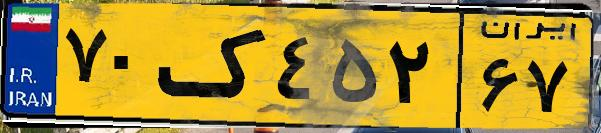0: (110, 28, 158, 98)
2: (385, 28, 445, 110)
4: (270, 28, 330, 110)
5: (330, 28, 385, 110)
6: (475, 38, 525, 113)
7: (57, 26, 110, 100), (525, 38, 570, 115)
ک: (158, 12, 270, 120)
